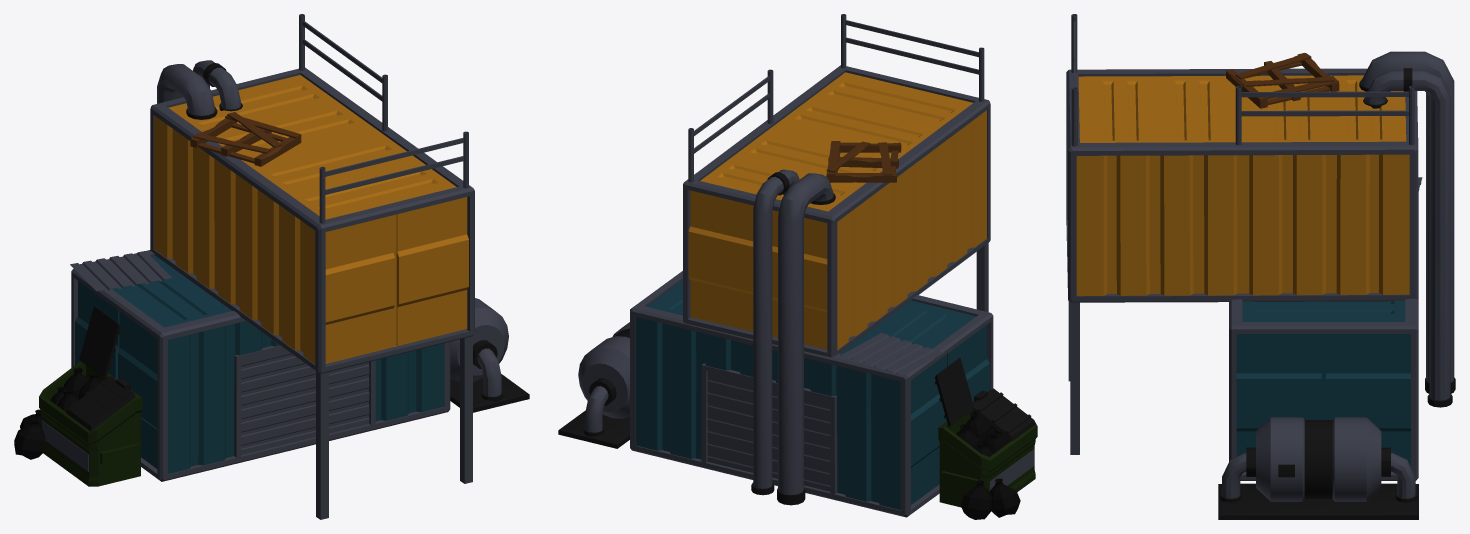
File: Structure_4.obj
The picture shows the model from 3 angles, left to right: view 1: azimuth 30°, elevation 25°; view 2: azimuth 150°, elevation 25°; view 3: azimuth 270°, elevation 25°; orthographic projection. The views are drawn at different scales.
Parts seen in each view (by area): view 1: Structure_4_Cube.339; view 2: Structure_4_Cube.339; view 3: Structure_4_Cube.339.
Part boxes in pixels (x1=…): Structure_4_Cube.339: x1=14, y1=14, x2=529, y2=519; Structure_4_Cube.339: x1=558, y1=14, x2=1037, y2=519; Structure_4_Cube.339: x1=1066, y1=14, x2=1455, y2=519.
Bounding box in the file's own units: 10.39 × 7.66 × 7.41.
